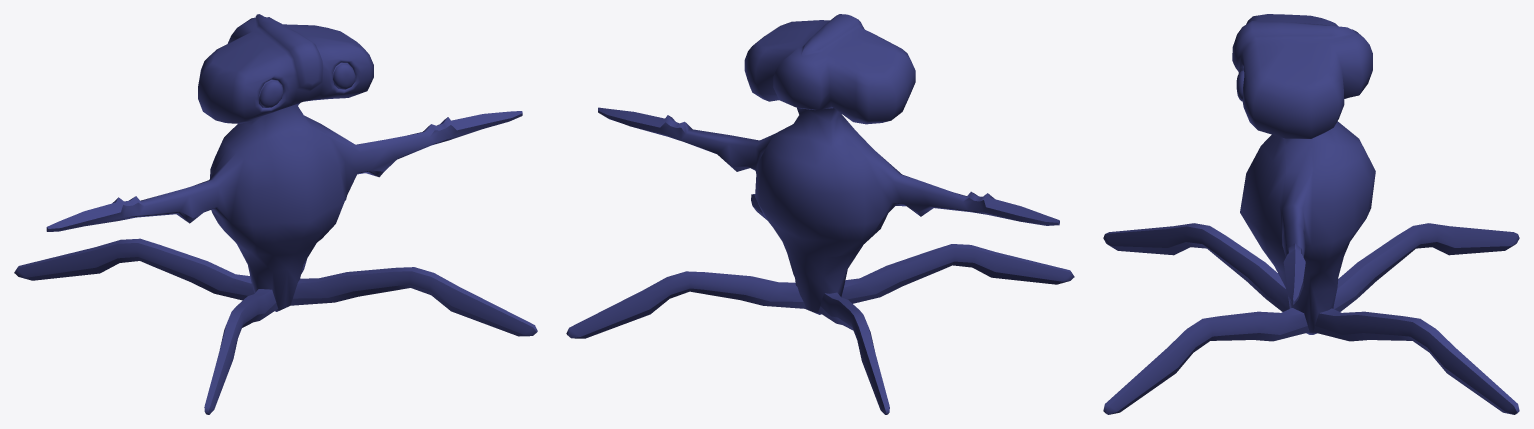
The model's file is aliemsito.fbx.
The picture shows the model from 3 angles, left to right: view 1: azimuth 30°, elevation 25°; view 2: azimuth 150°, elevation 25°; view 3: azimuth 270°, elevation 25°; orthographic projection. The views are drawn at different scales.
Parts seen in each view (by area): view 1: Alien1; view 2: Alien1; view 3: Alien1.
Part boxes in pixels (box(x1,y1,x2,y2)): Alien1: box(14, 14, 537, 414); Alien1: box(566, 14, 1074, 414); Alien1: box(1103, 14, 1519, 414).
Size of the model in its own units: 3.44 by 2 by 2.42.
